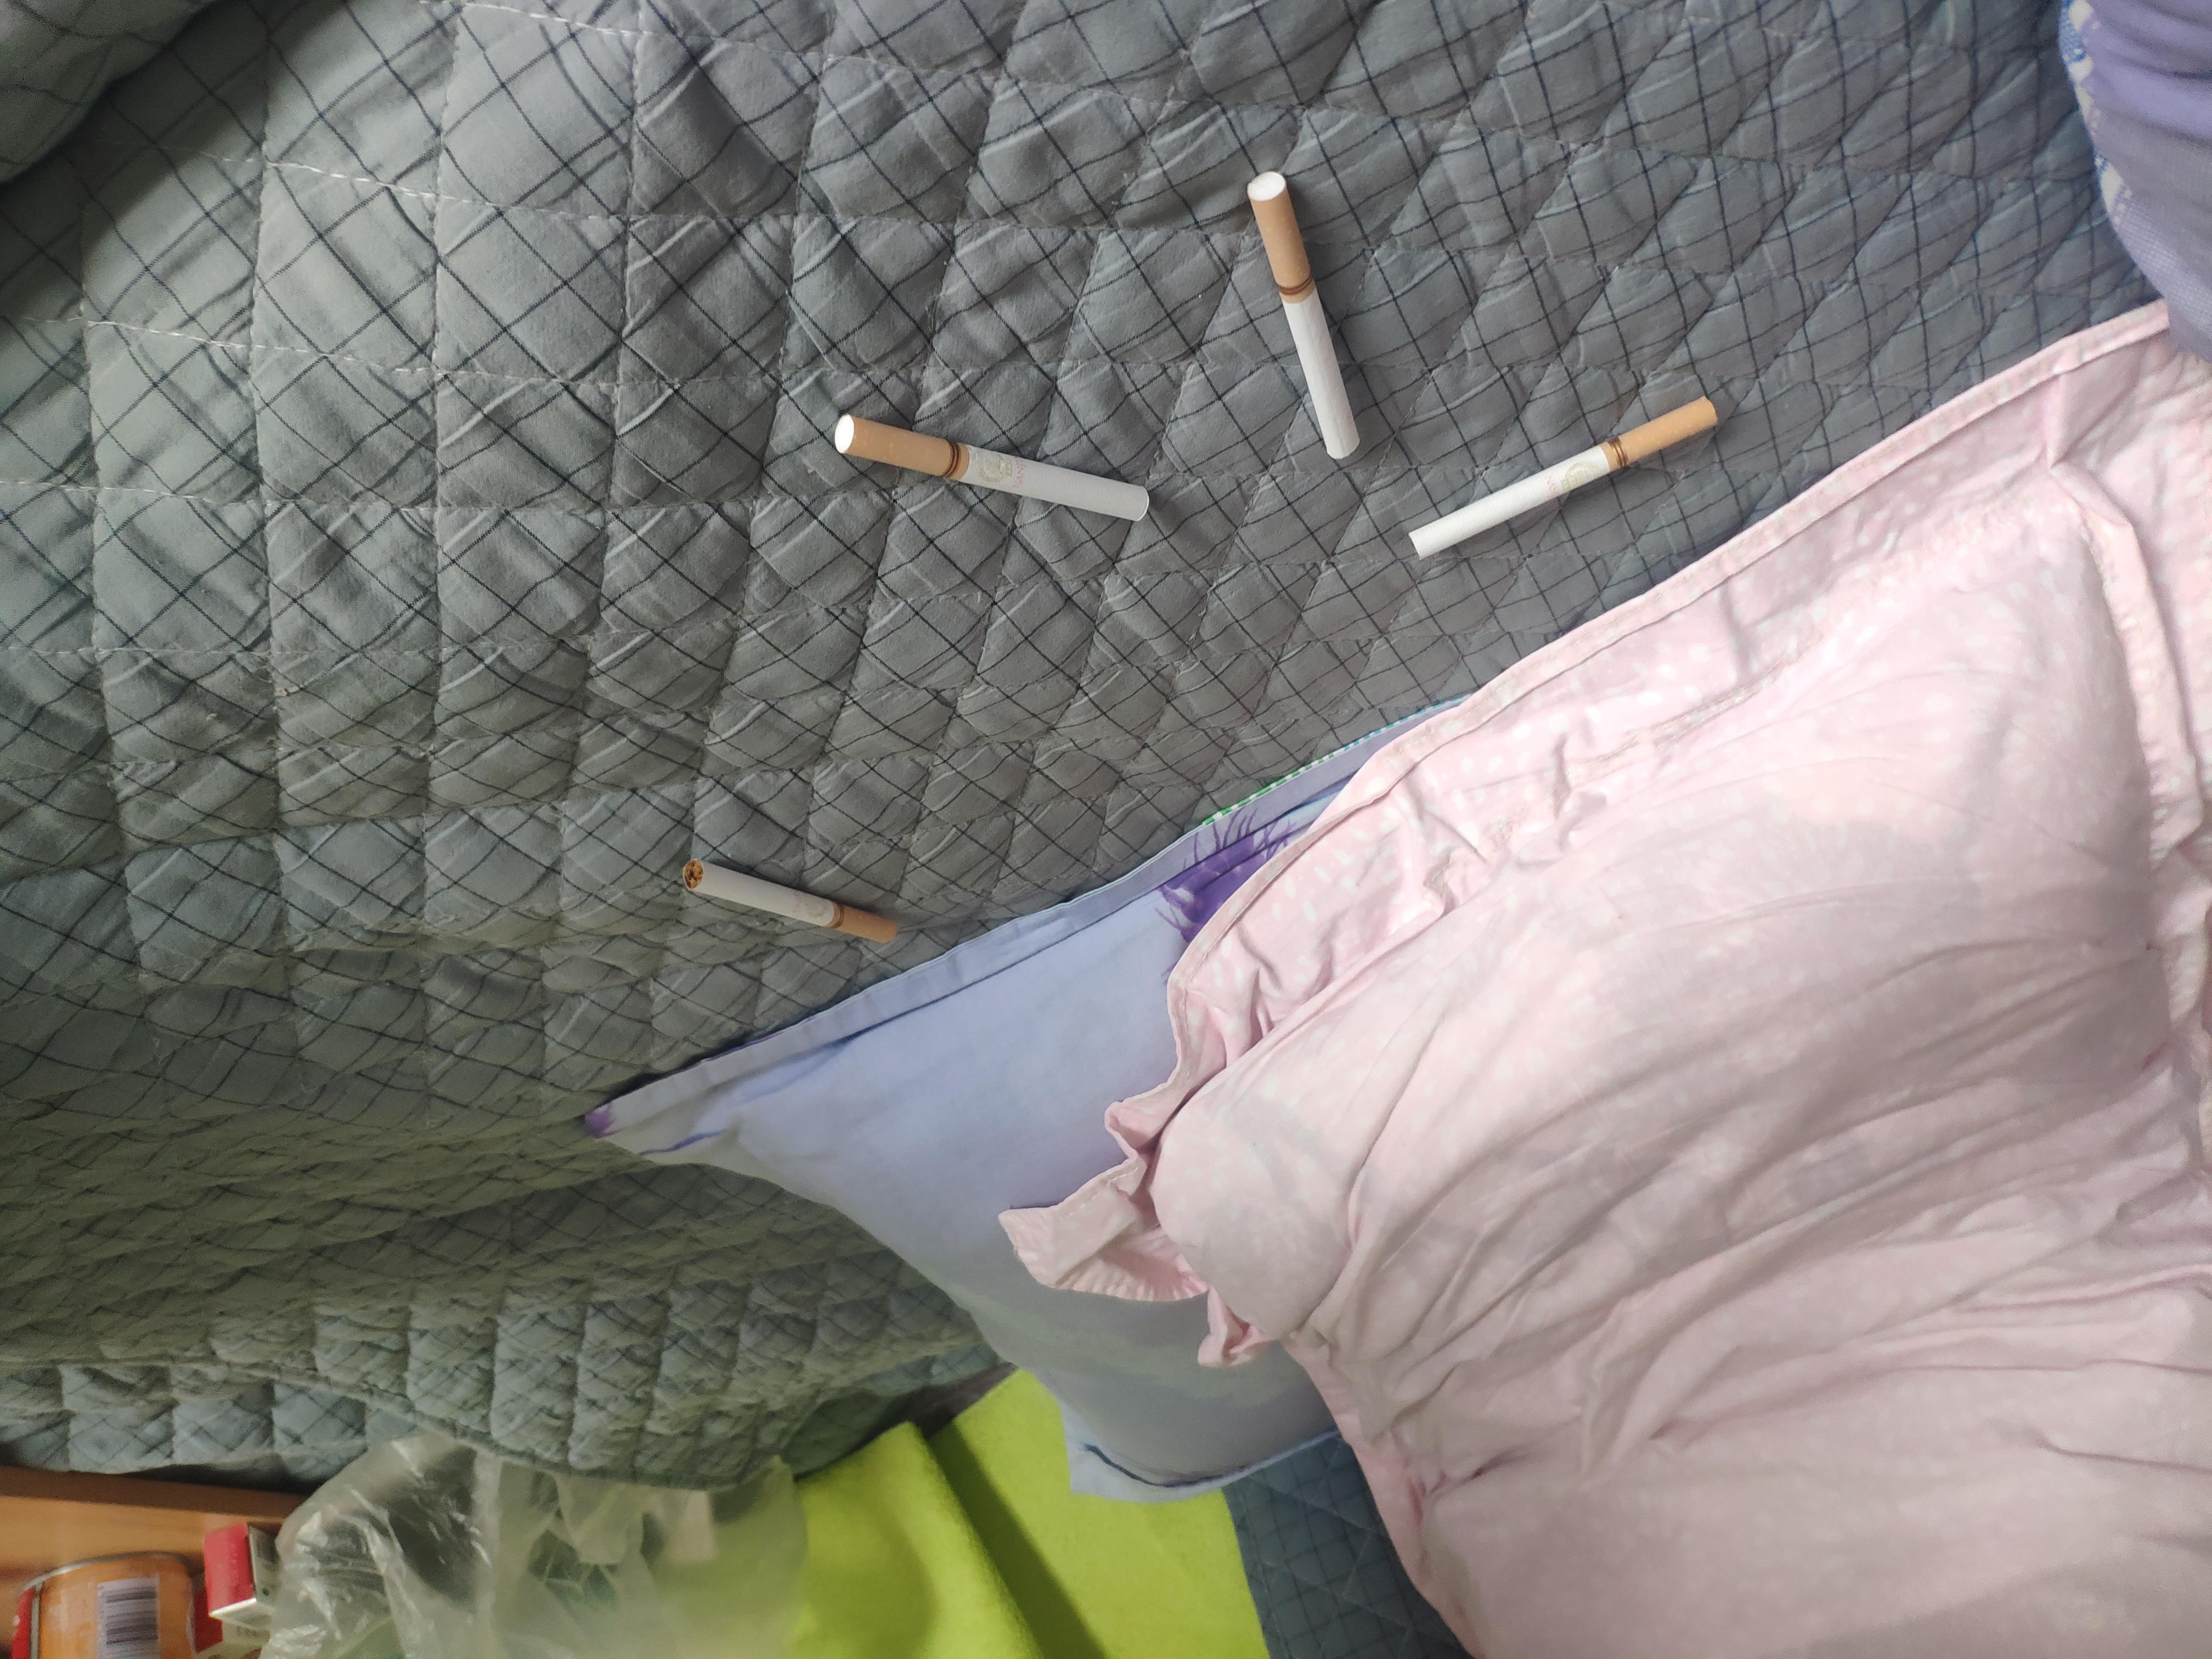smoke: (495, 1100, 806, 1265), (1062, 1134, 1383, 1248), (852, 1197, 968, 1490), (1313, 714, 1531, 802)
